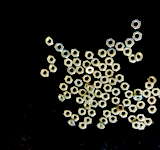nut: (131, 19, 142, 30), (132, 31, 143, 41), (147, 96, 158, 106), (125, 37, 135, 48), (112, 62, 122, 73), (47, 54, 58, 64), (85, 50, 96, 60), (62, 47, 71, 59), (148, 75, 158, 85), (116, 42, 126, 52), (108, 47, 118, 57), (55, 42, 65, 52), (115, 73, 125, 83), (106, 38, 115, 49), (65, 74, 74, 85), (148, 106, 158, 115), (78, 107, 87, 117), (121, 82, 131, 91), (59, 82, 68, 92), (71, 48, 80, 58), (98, 48, 107, 58), (92, 57, 101, 67), (123, 98, 133, 107), (137, 101, 147, 110), (117, 104, 127, 113), (93, 70, 102, 80), (67, 66, 77, 75), (64, 58, 73, 68), (74, 79, 84, 88), (46, 36, 54, 47), (104, 57, 115, 65), (49, 65, 60, 73), (40, 69, 49, 78), (124, 47, 133, 56), (125, 90, 134, 99), (104, 84, 113, 93), (112, 88, 121, 97), (103, 109, 112, 118), (82, 60, 91, 69), (64, 109, 73, 118), (99, 100, 108, 109), (70, 86, 79, 95), (84, 83, 93, 92), (135, 52, 143, 62), (105, 70, 115, 78), (98, 63, 108, 71), (137, 114, 147, 122), (72, 58, 82, 66), (82, 75, 92, 83), (87, 92, 97, 100), (143, 89, 151, 99), (144, 118, 153, 126), (132, 122, 141, 130), (129, 105, 138, 113), (128, 54, 136, 63), (151, 88, 160, 96), (146, 81, 154, 90), (109, 78, 118, 86), (100, 76, 109, 84), (109, 115, 118, 123), (120, 110, 128, 119), (97, 123, 106, 131), (100, 117, 108, 126), (76, 66, 85, 74), (94, 81, 103, 89), (91, 100, 99, 109), (79, 107, 87, 116), (89, 109, 97, 118), (95, 90, 103, 99), (84, 94, 92, 103), (79, 88, 87, 97), (86, 86, 96, 93), (79, 122, 87, 130), (112, 97, 120, 105), (111, 107, 119, 115), (86, 67, 94, 75), (84, 118, 92, 126), (76, 97, 84, 105), (64, 92, 72, 100), (134, 89, 143, 96), (138, 123, 147, 130), (103, 93, 110, 102), (129, 116, 137, 123), (73, 114, 80, 122), (134, 95, 143, 101), (69, 120, 76, 127), (84, 103, 91, 110), (59, 94, 64, 102), (159, 92, 160, 101)
